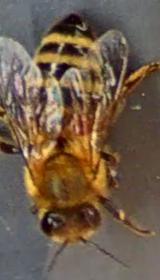varroa_mite: (68, 107, 98, 138)
